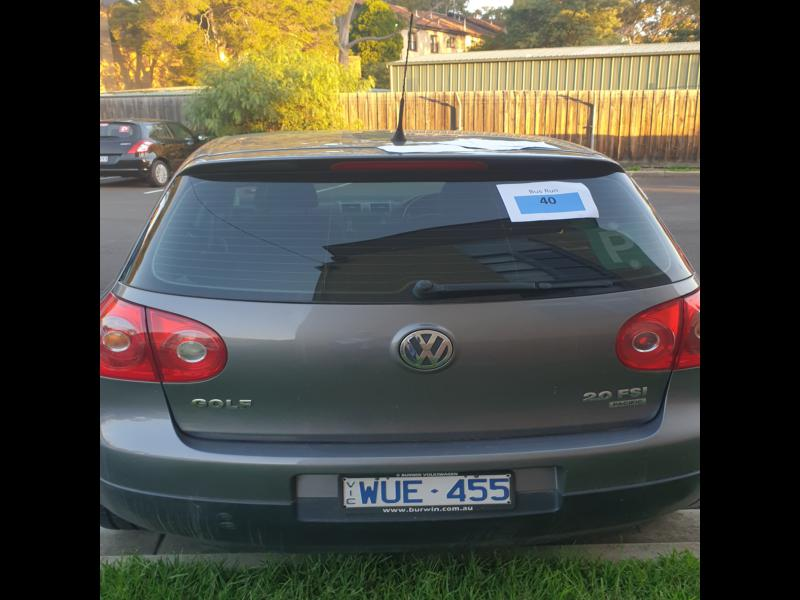BusRun: (513, 193, 587, 213)
PlateNo: (342, 472, 514, 508)
